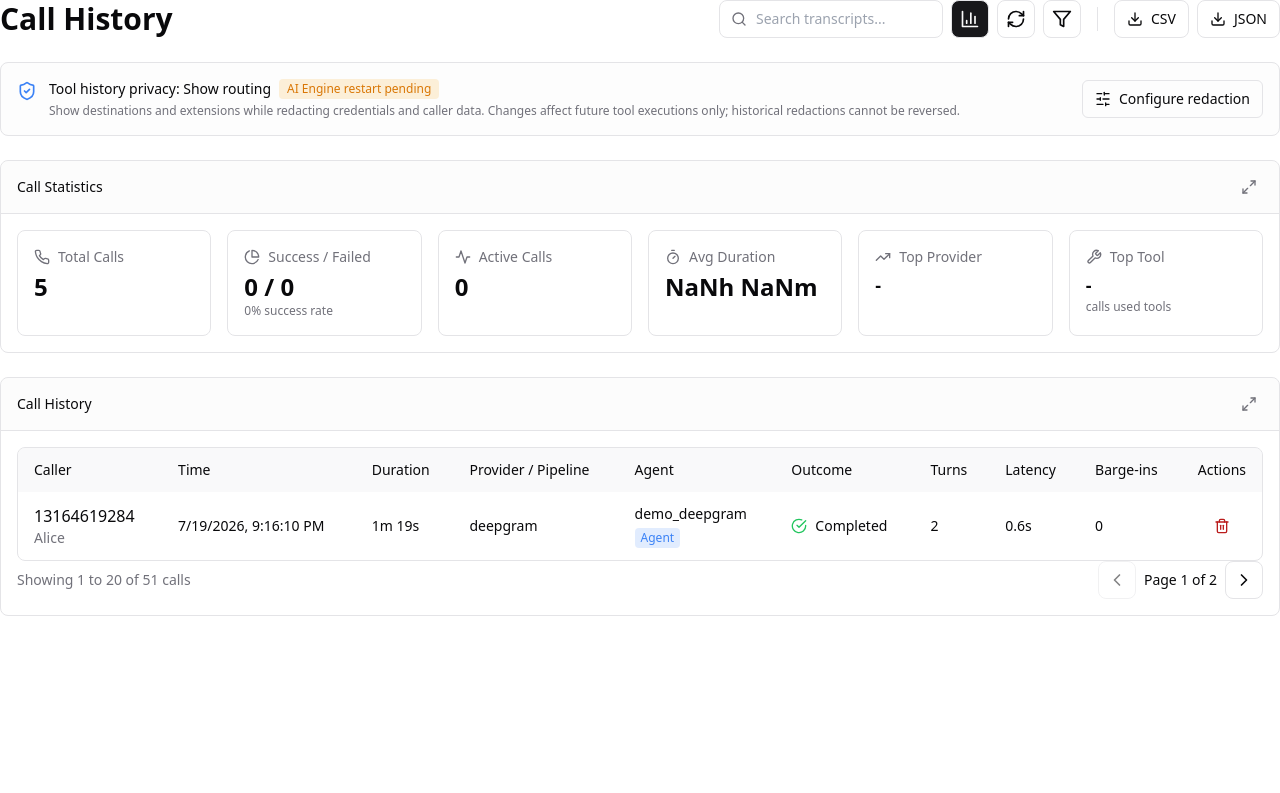
Test: CallHistoryPage deep links › keeps the latest statistics when an older request resolves last
The width and height of the screenshot is (1280, 793).
Check: the text "5" is shown, box [34,270,48,303]
Click the button titled "Filters": (1062, 19) [1043,0,1081,38]
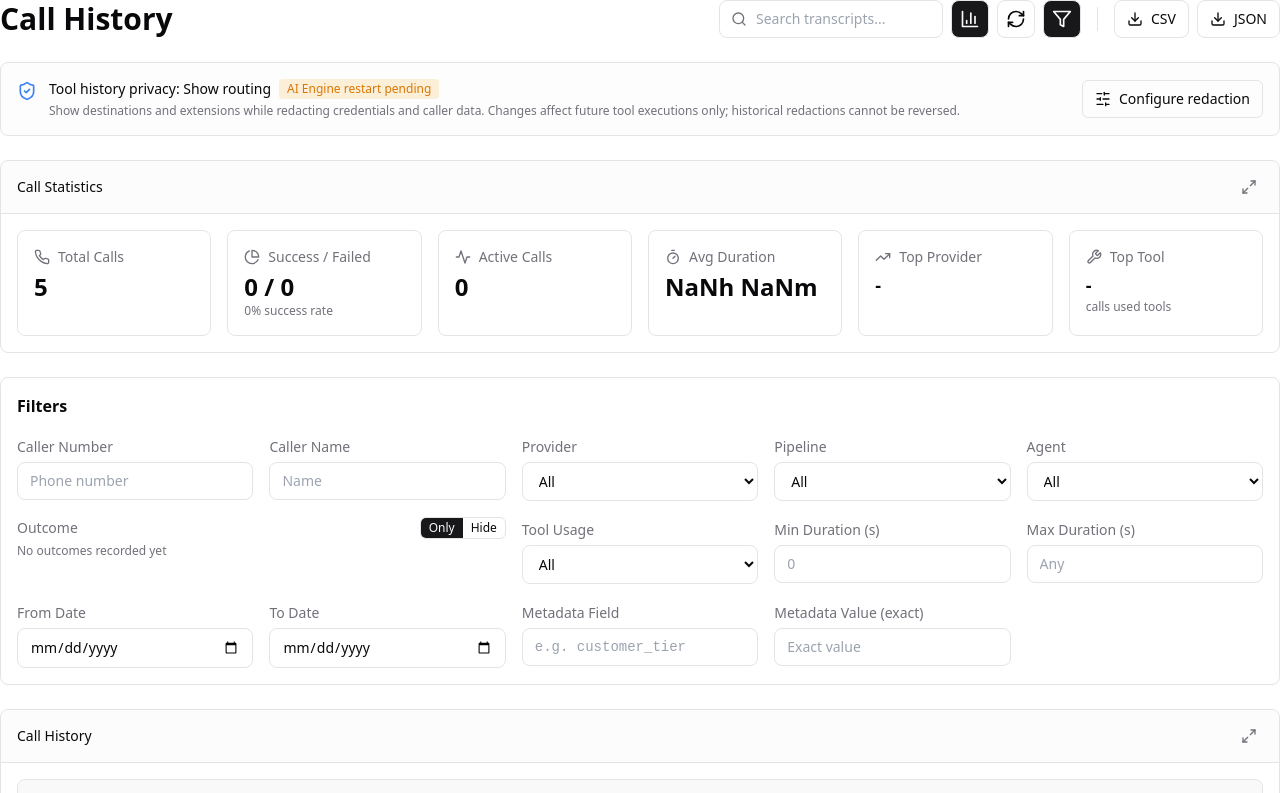
In the field with placeholder "Name": (388, 481) [269,462,506,500], type "Alice"
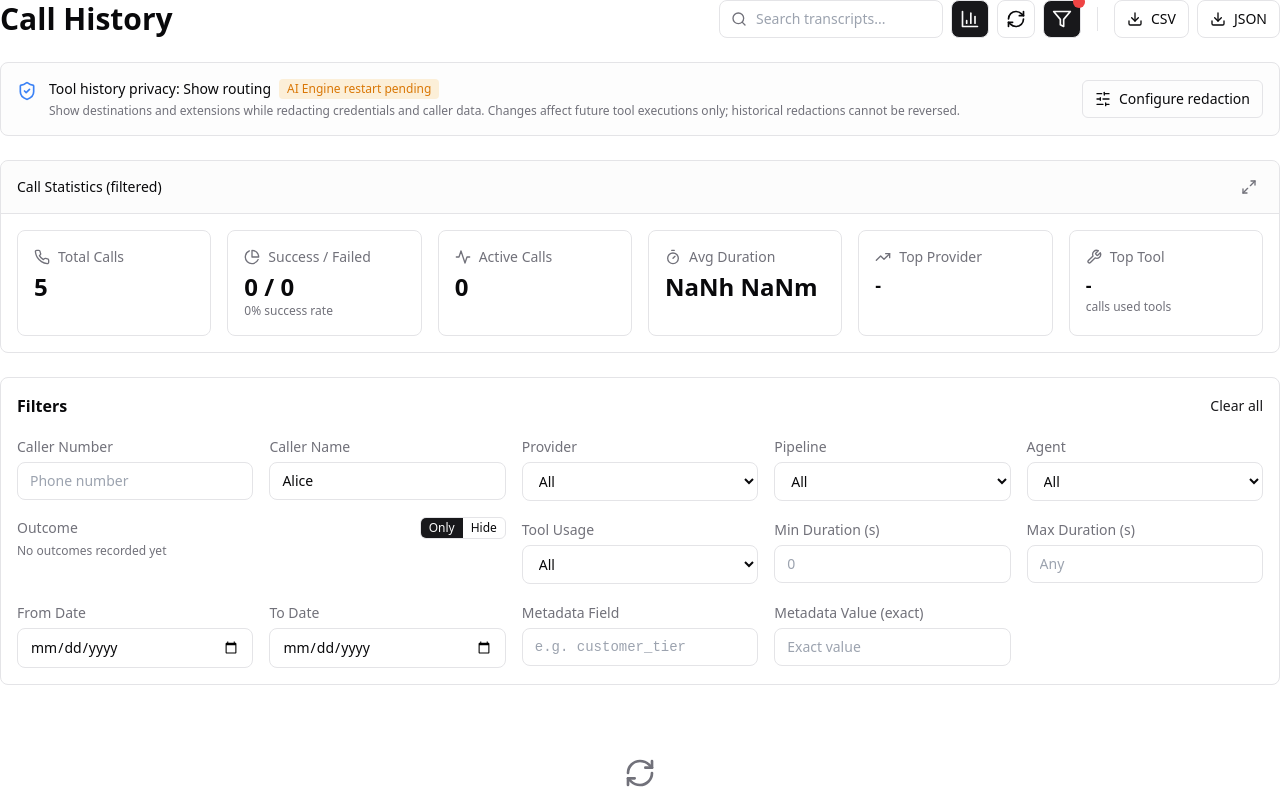
Replace the text in the field with placeholder "Name" with "Bob": (388, 481) [269,462,506,500]
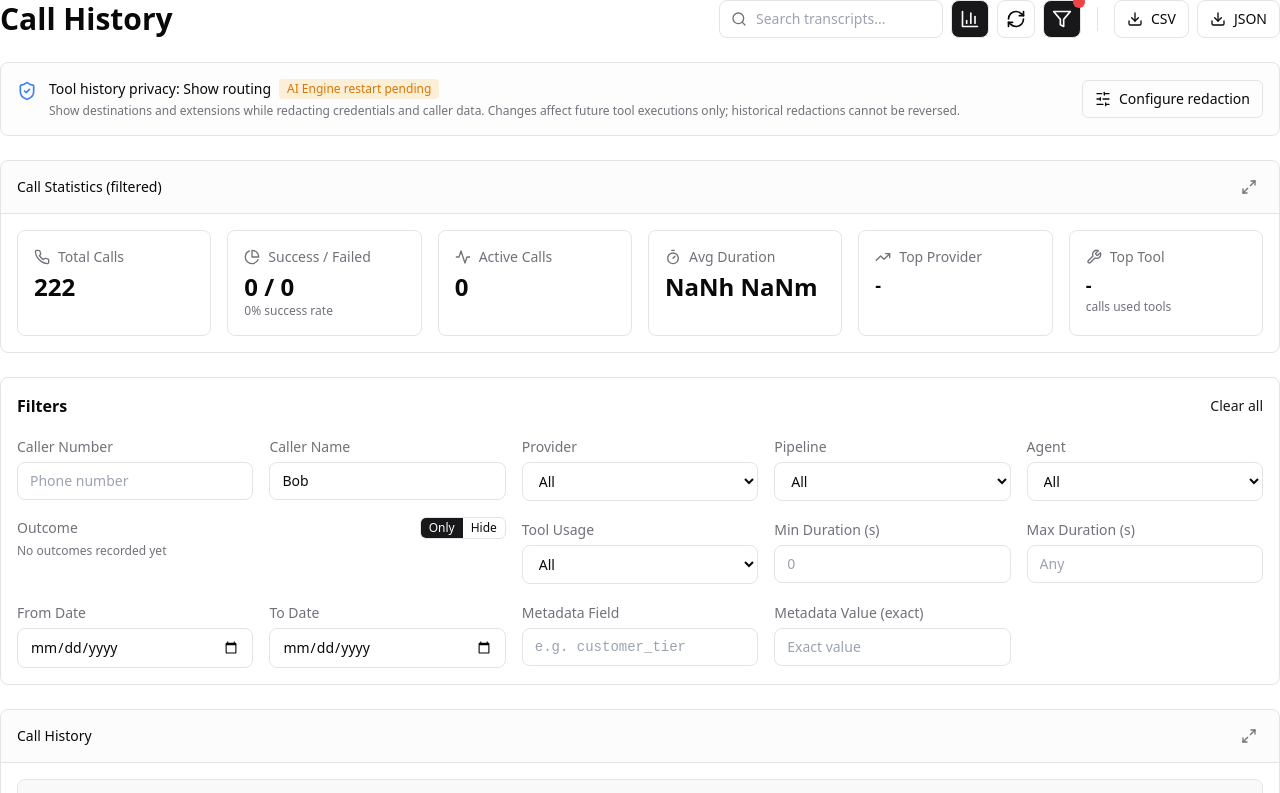
Check: the text "222" is shown, box [34,270,75,303]
